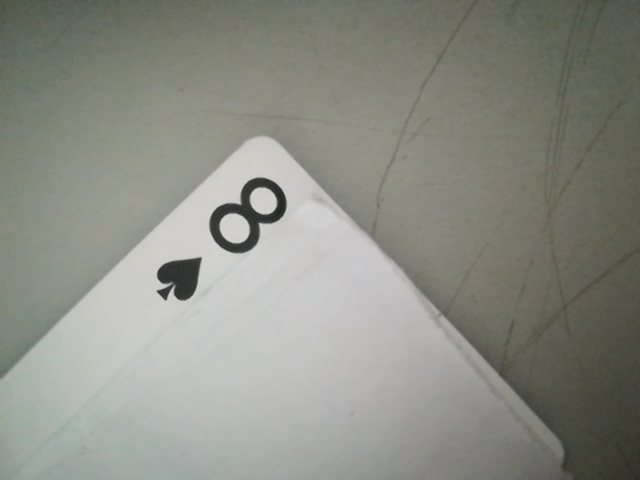ht 8: (146, 163, 315, 306)
